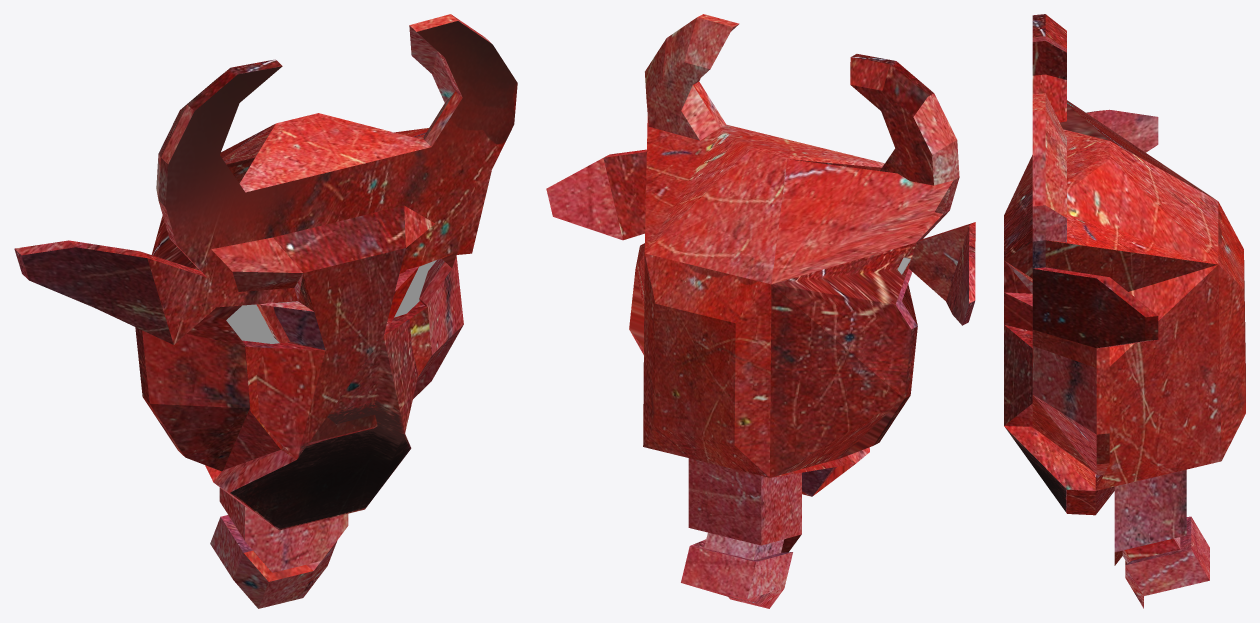
Rendered from bullHelmet.fbx.
The picture shows the model from 3 angles, left to right: view 1: azimuth 30°, elevation 25°; view 2: azimuth 150°, elevation 25°; view 3: azimuth 270°, elevation 25°; orthographic projection. The views are drawn at different scales.
Visible parts, largest first — view 1: OxHelmet; view 2: OxHelmet; view 3: OxHelmet.
Boxes of the visible parts, x1=… form: OxHelmet: x1=14, y1=14, x2=517, y2=608; OxHelmet: x1=546, y1=14, x2=975, y2=608; OxHelmet: x1=1004, y1=14, x2=1245, y2=608.
Size of the model in its own units: 202 by 241 by 97.88.
